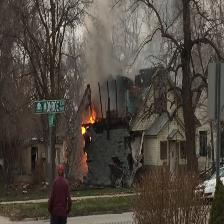fire: (82, 116, 95, 132)
smoke: (83, 39, 117, 79)
